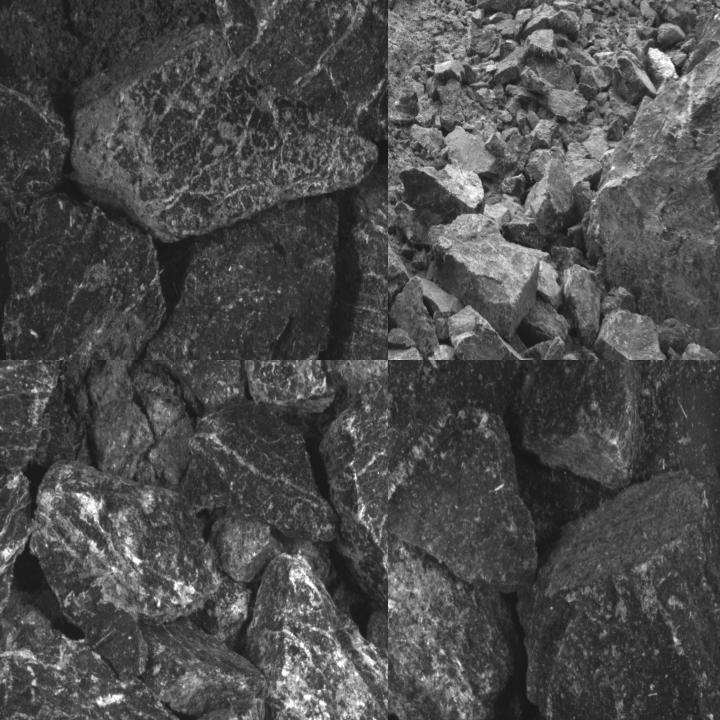stone: (73, 25, 369, 242), (519, 462, 719, 719), (32, 461, 251, 674), (594, 8, 719, 348), (135, 192, 340, 359), (388, 403, 537, 601), (0, 190, 165, 359), (388, 512, 515, 719), (215, 0, 387, 144), (0, 585, 182, 719), (246, 553, 387, 719), (176, 400, 340, 538), (519, 360, 651, 488), (322, 378, 387, 620), (426, 214, 540, 339), (140, 615, 266, 714), (0, 360, 79, 513), (0, 80, 70, 228), (140, 360, 250, 410), (210, 512, 285, 581), (402, 165, 485, 225), (247, 360, 330, 413), (388, 277, 440, 359), (446, 304, 523, 359), (532, 148, 580, 233), (594, 310, 667, 359), (445, 127, 508, 181), (562, 262, 600, 342), (518, 300, 570, 344), (612, 55, 660, 101), (547, 80, 596, 122), (529, 56, 576, 88), (537, 251, 564, 306), (494, 46, 527, 86), (525, 339, 586, 359), (646, 47, 678, 85), (465, 18, 497, 54), (566, 157, 606, 184), (526, 28, 558, 58), (521, 66, 554, 95), (578, 66, 613, 92), (435, 59, 465, 84), (477, 0, 528, 14), (526, 148, 548, 180), (670, 345, 719, 359), (422, 344, 465, 359), (658, 23, 686, 46), (513, 8, 531, 38)
